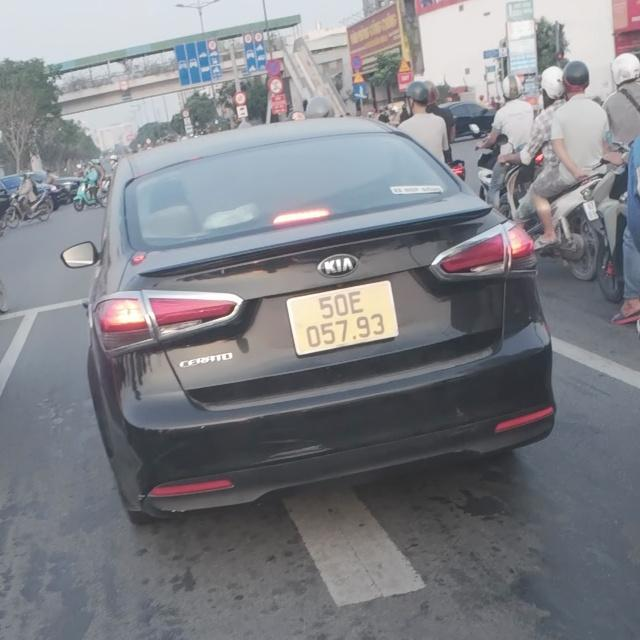license-plate: (287, 281, 398, 356)
